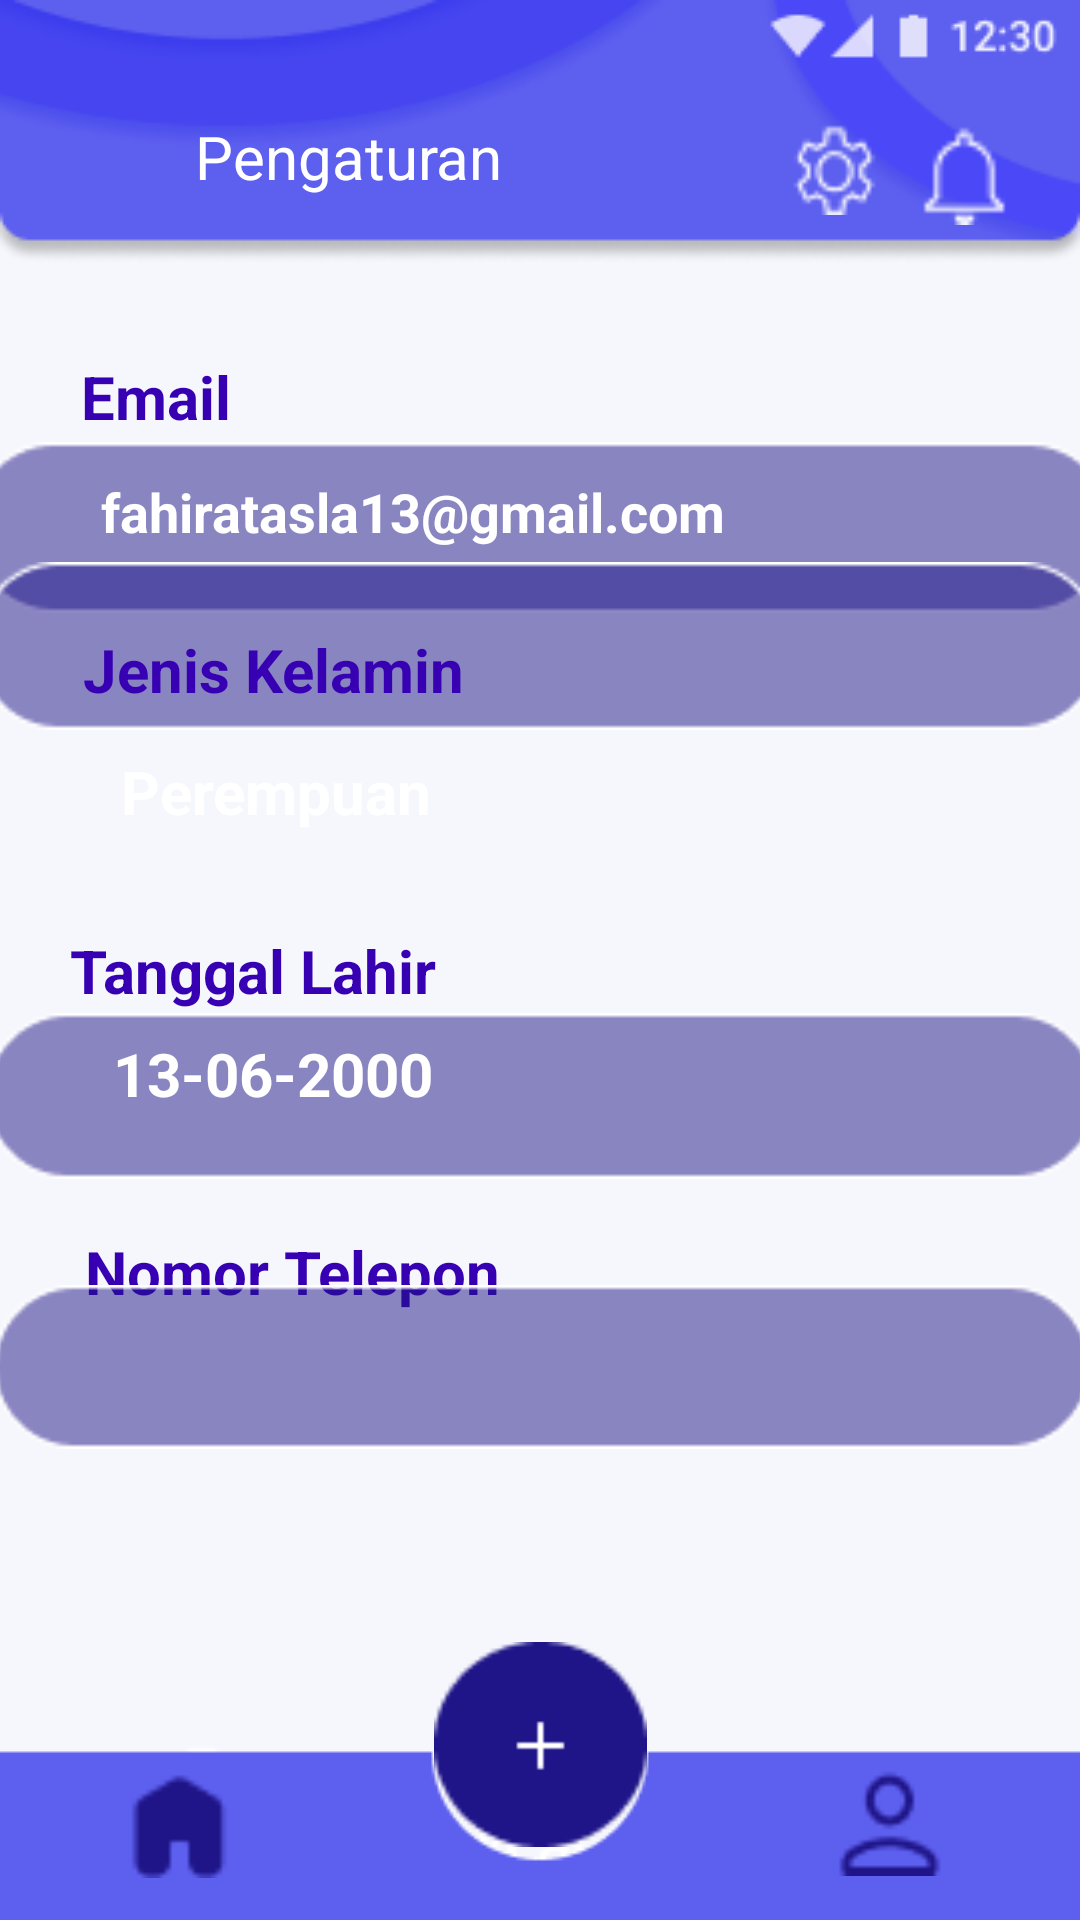

Named icons in this screenshot (1080px×1920px) and their centers, point (x, y):
notifications: point (960, 172)
plus: point (540, 1748)
settings: point (834, 170)
